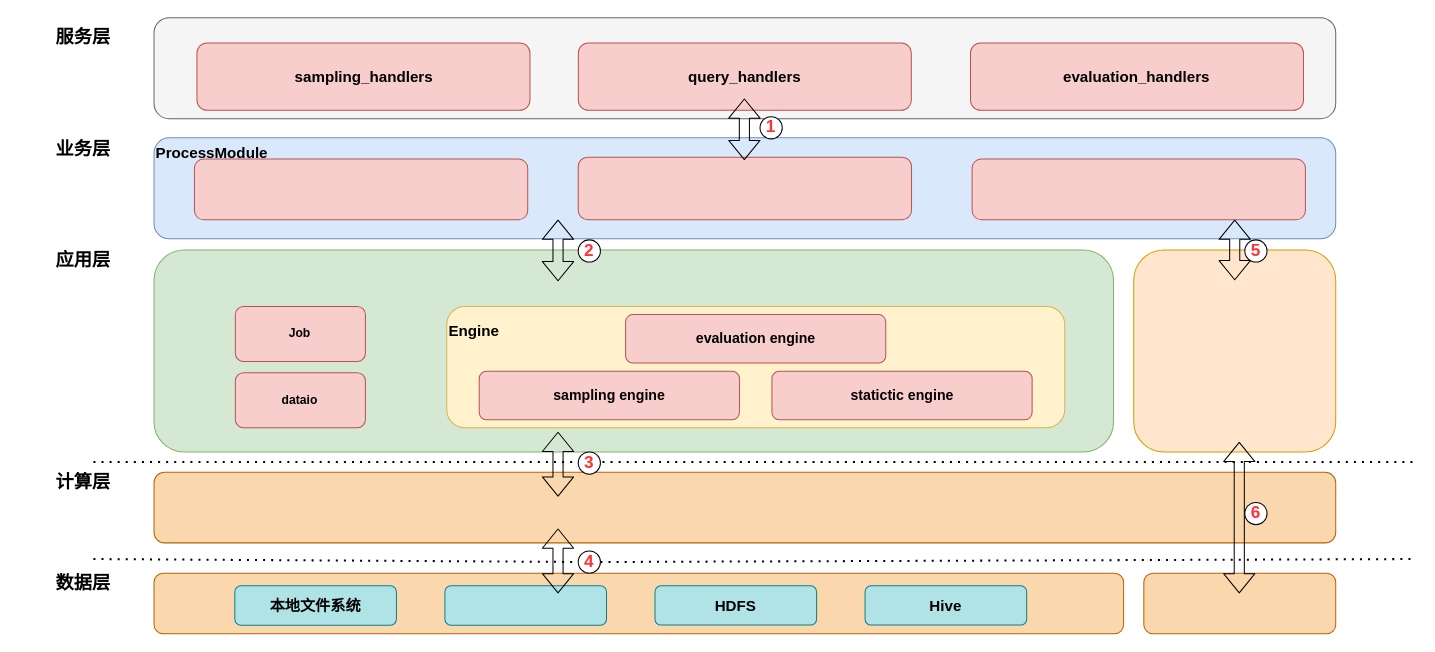
This 1435x652 diagram has some shape labels left out. The shapes that lost their labels are listed below. From the top down, each one's box as (x1, y1, x2, y2) in pixels, then its label:
(153, 17, 1336, 119): Tornado Handler
(193, 158, 528, 220): SamplingProcessModule
(577, 156, 912, 220): QueryProcessModule
(971, 158, 1305, 220): EvaluationProcessModule
(153, 249, 1114, 452): Spark Sampling
(1133, 249, 1336, 452): AIO SQLAlchemy Engine
(153, 471, 1336, 543): Spark
(444, 585, 607, 625): RFS
(1143, 572, 1336, 634): MySQL
